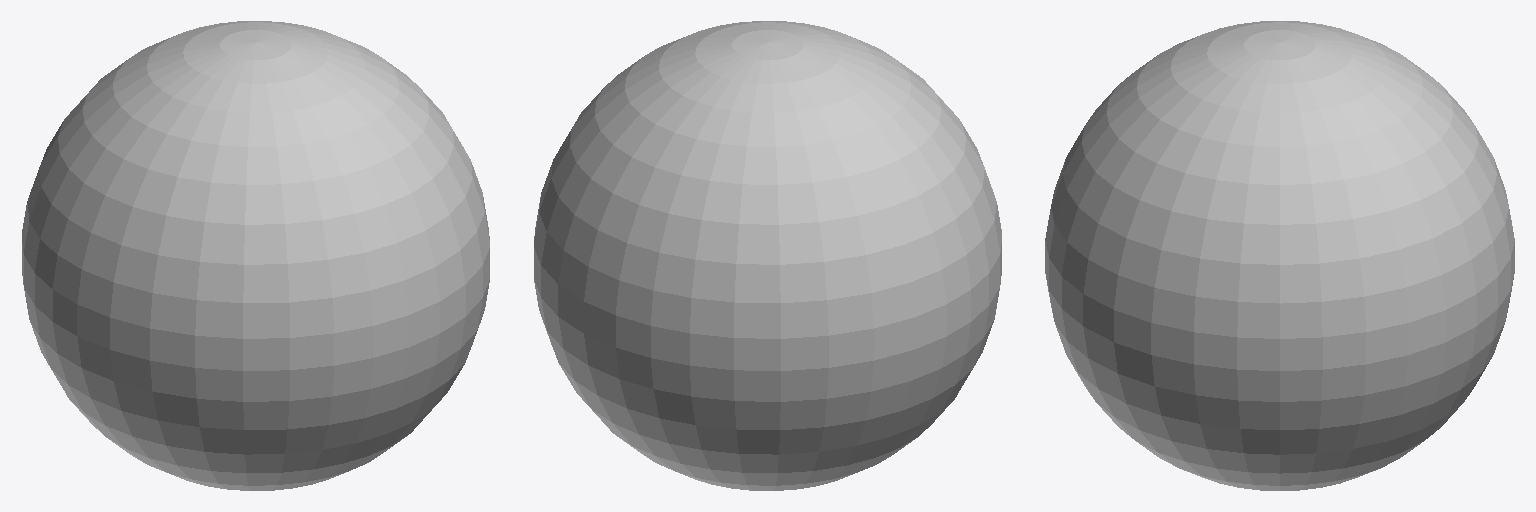
Rendered from ball.obj.
3 views of the same model, side by side, from view 1: azimuth 30°, elevation 25°; view 2: azimuth 150°, elevation 25°; view 3: azimuth 270°, elevation 25° (orthographic).
Visible parts, largest first — view 1: Ball; view 2: Ball; view 3: Ball.
Part boxes in pixels (x1,y1,x2,y2): Ball: (22, 21, 489, 490); Ball: (534, 21, 1001, 490); Ball: (1045, 21, 1514, 490).
Bounding box in the file's own units: 1.99 × 2 × 1.99.